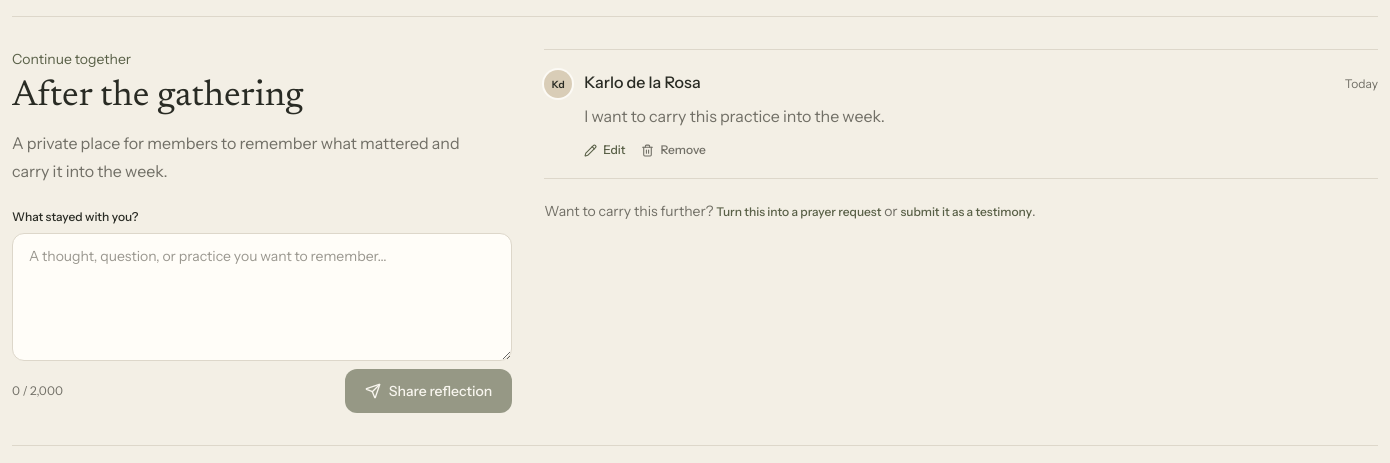
Scenario: GatheringReflections › lets an author edit their own reflection
Click the button named "edit karlo de la rosa's reflection" at (605, 150), box 584,142 -> 626,158
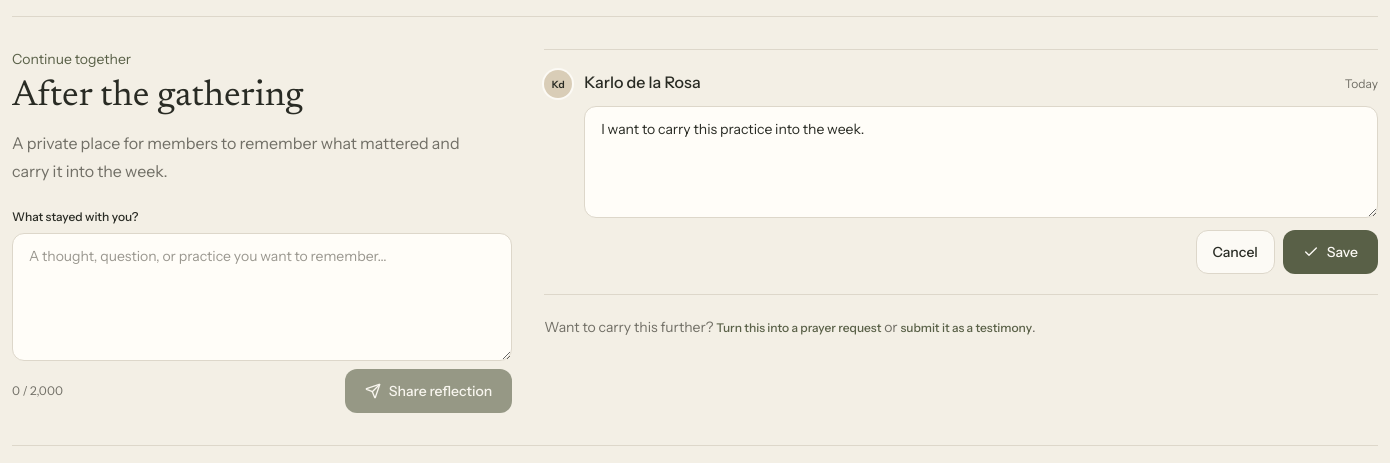
Replace the text in the text box named "Edit your reflection" with "  A renewed commitment to listen.  " at (981, 162), box 584,106 -> 1378,218
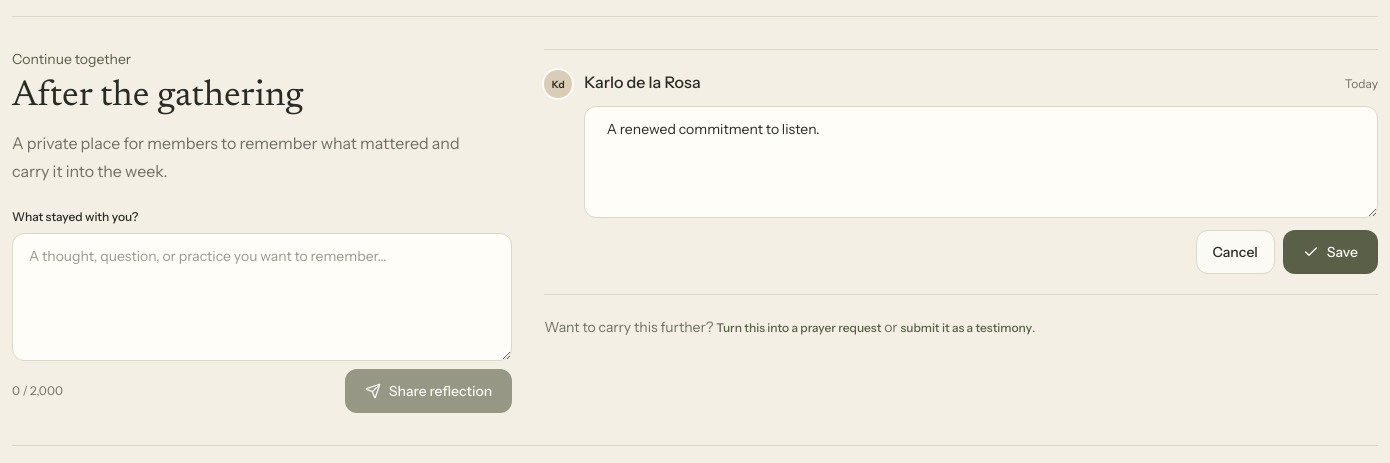
Click the button "Save" at (1330, 252), box 1283,230 -> 1378,274
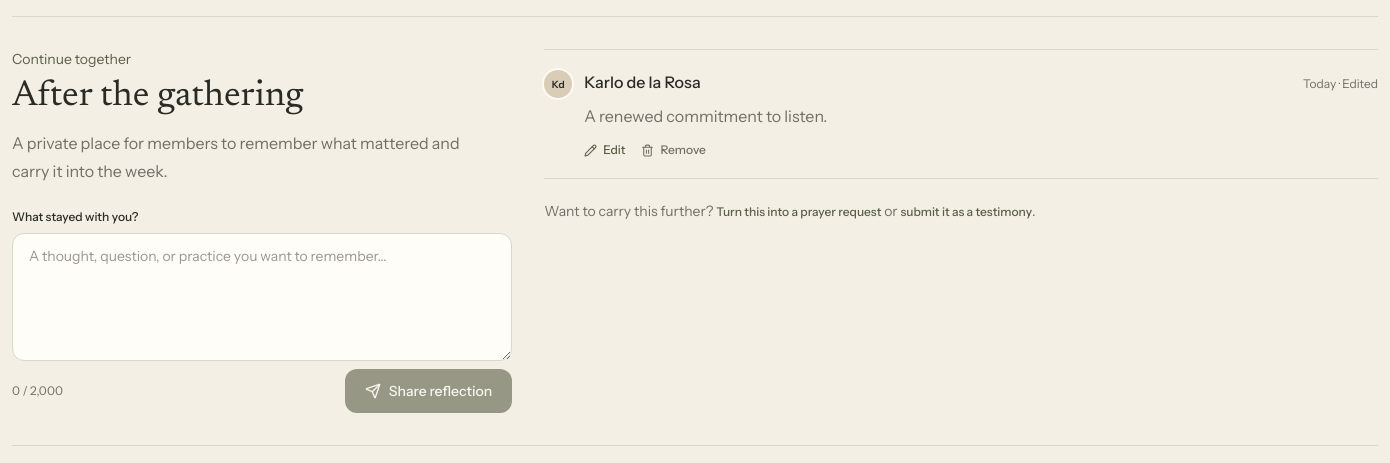
Now the text "A renewed commitment to listen." is shown, box 584,106 -> 828,126
Now the text "Today · Edited" is shown, box 1303,76 -> 1378,92
